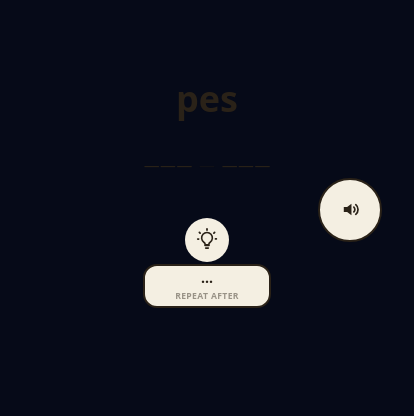
Test: TypingStudyCard › requires typing the space when prefill is disabled
In the field: (207, 167) [136, 129, 278, 206], type "conchó"
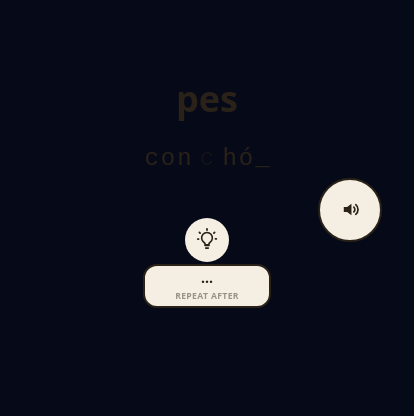
Replace the text in the field with "con chó": (207, 167) [136, 129, 278, 206]
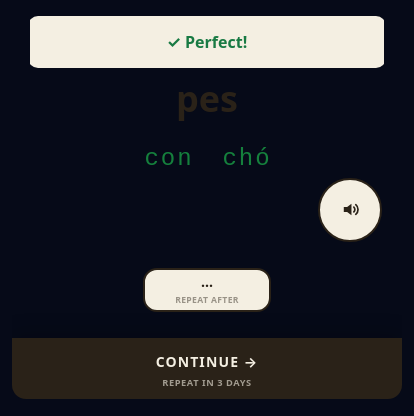
Check: the text "✓ Perfect!" is shown, box [30, 16, 384, 68]
